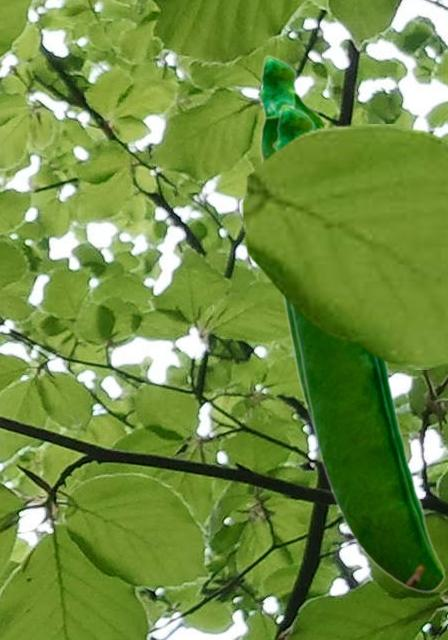pea: (272, 102, 444, 592), (256, 53, 420, 498)
